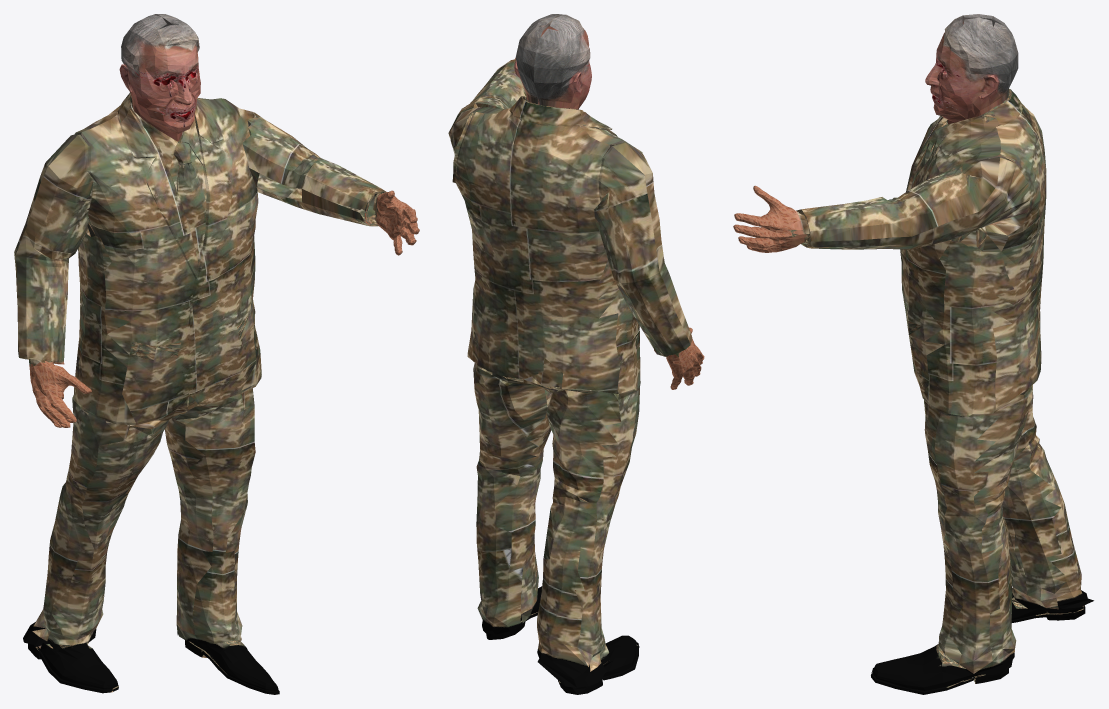
Rendered from zombie_000035.obj.
3 renders of one model, left to right at view 1: azimuth 30°, elevation 25°; view 2: azimuth 150°, elevation 25°; view 3: azimuth 270°, elevation 25°, orthographic. The views are drawn at different scales.
Visible parts, largest first — view 1: Suit_coat_orig_9___De, objGeo_Hea_orig_9___D; view 2: Suit_coat_orig_9___De, objGeo_Hea_orig_9___D; view 3: Suit_coat_orig_9___De, objGeo_Hea_orig_9___D.
Part boxes in pixels (x1,y1,x2,y2): Suit_coat_orig_9___De: (14,92,419,694); objGeo_Hea_orig_9___D: (119,14,200,141); Suit_coat_orig_9___De: (448,58,704,694); objGeo_Hea_orig_9___D: (514,14,591,109); Suit_coat_orig_9___De: (733,88,1093,694); objGeo_Hea_orig_9___D: (925,14,1018,124).
Size of the model in its own units: 0.8671 by 1.9 by 0.9696.
